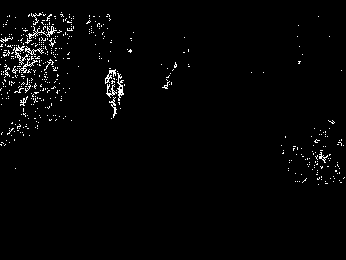person: (103, 66, 126, 121)
